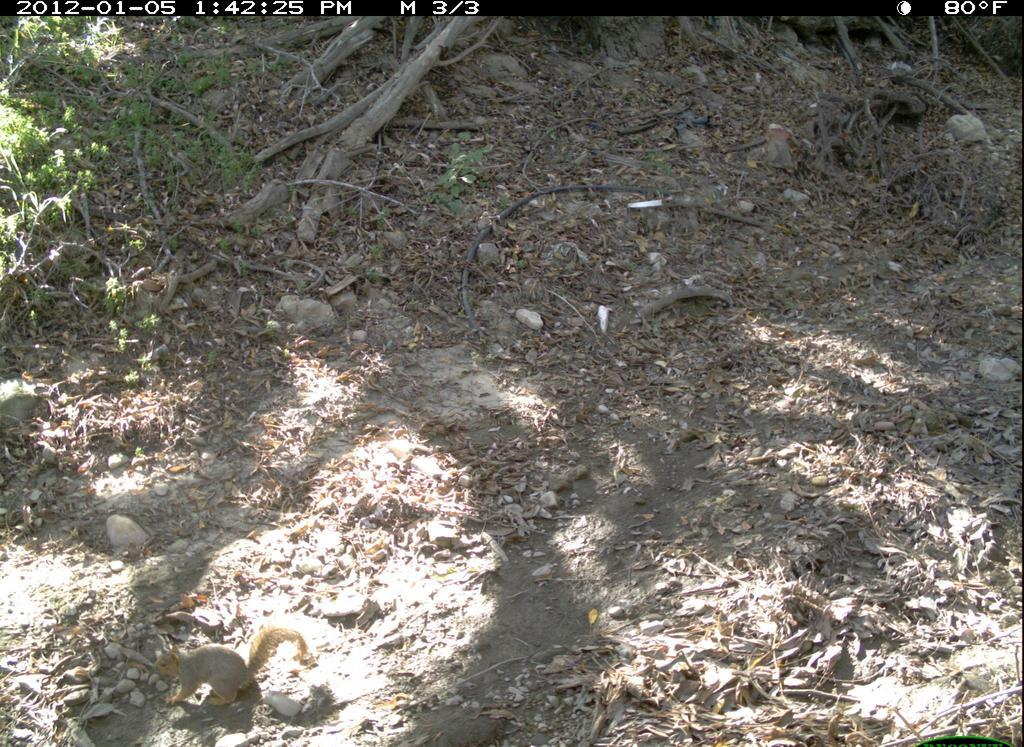squirrel: (153, 615, 309, 720)
